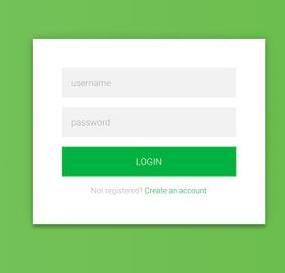button: (61, 146, 238, 178)
field: (60, 106, 237, 138), (61, 67, 236, 98)
